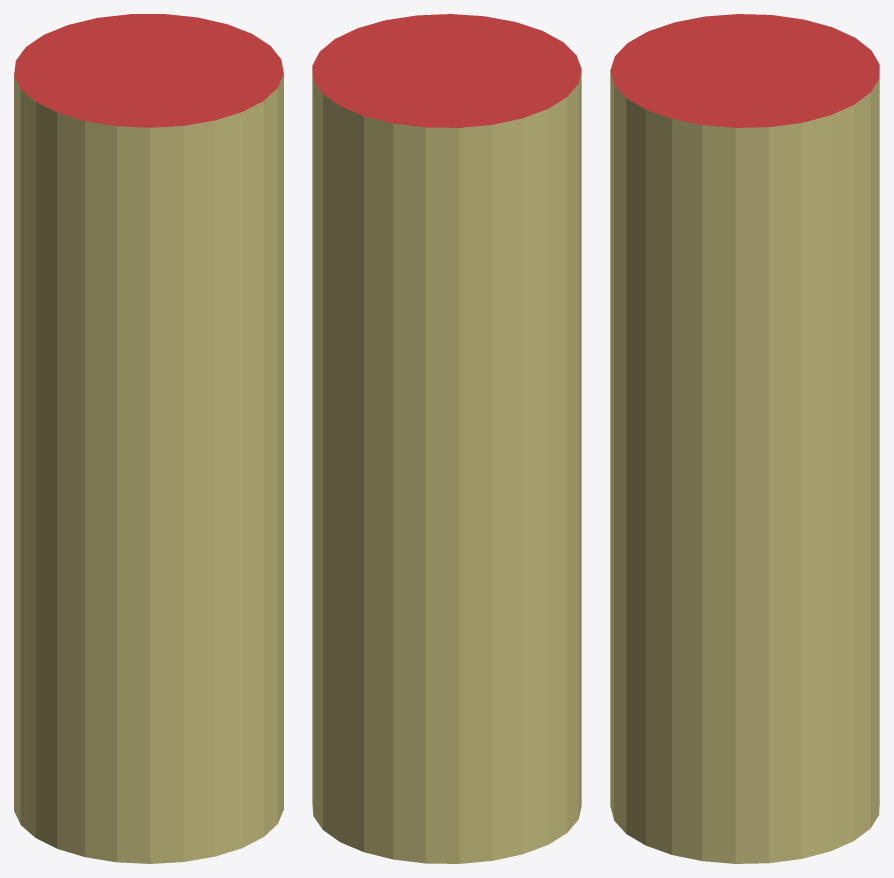
3 views of the same model, side by side, from view 1: azimuth 30°, elevation 25°; view 2: azimuth 150°, elevation 25°; view 3: azimuth 270°, elevation 25° (orthographic).
Bounding box in the file's own units: 3.45 × 3.44 × 10.38.
